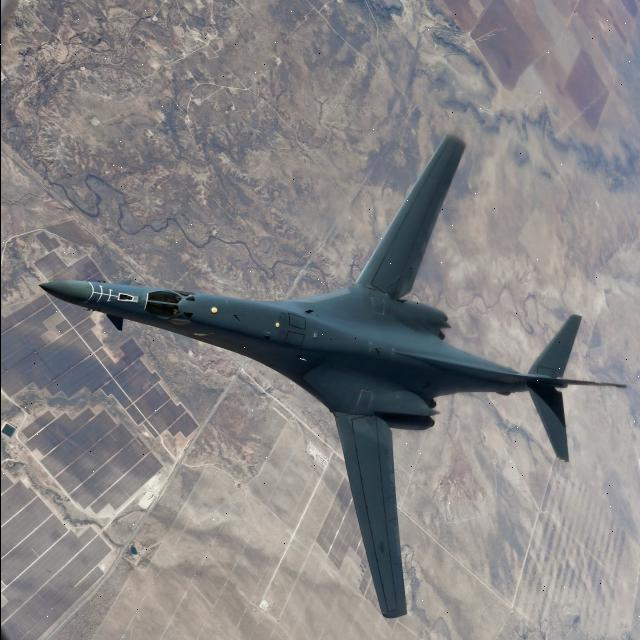B1: (21, 92, 634, 630)
